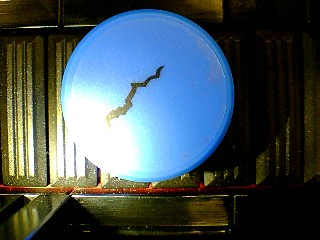CRACK: (59, 8, 236, 183)
